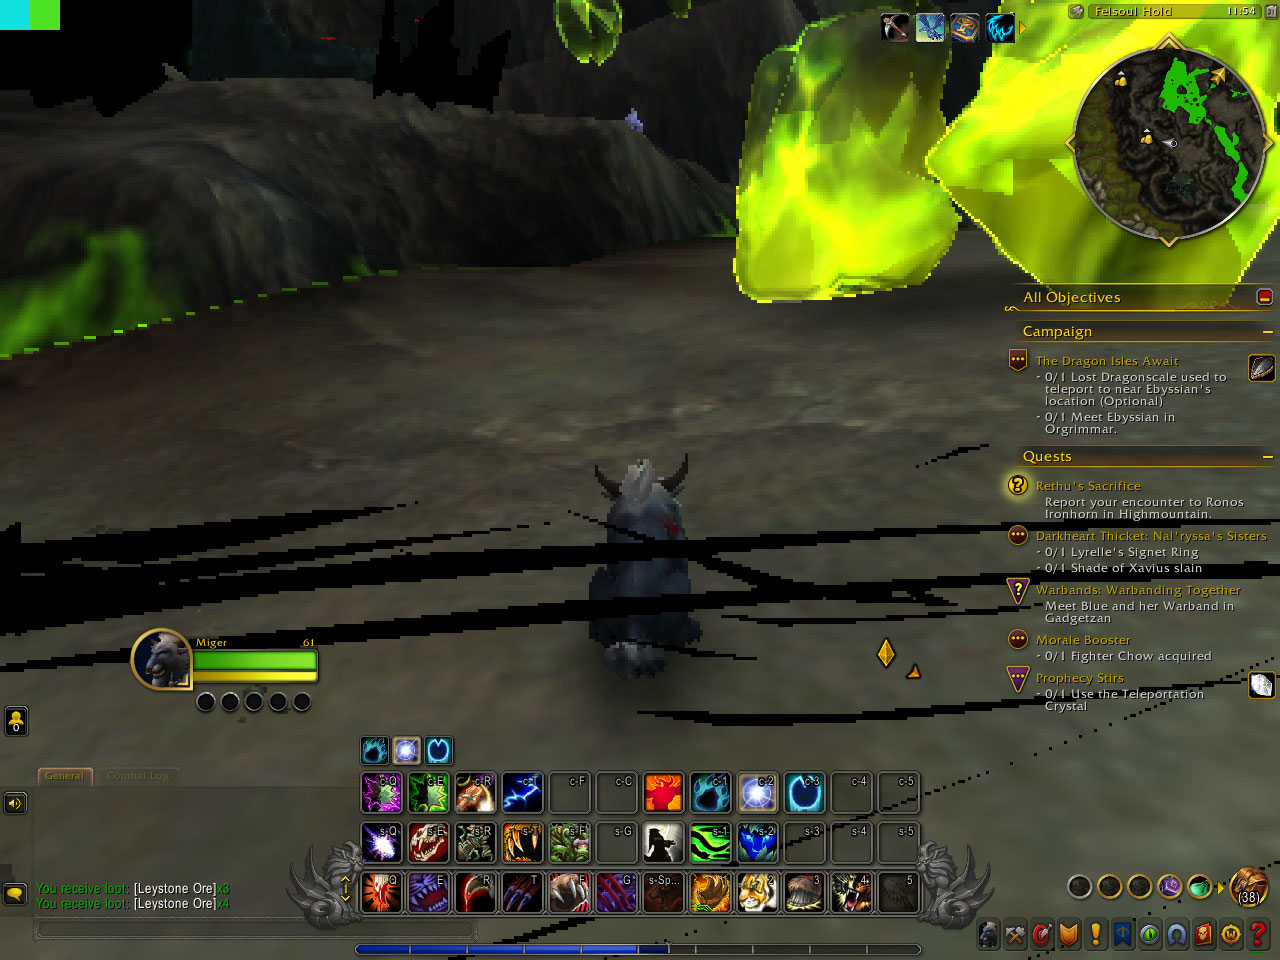ore: (620, 102, 648, 136)
